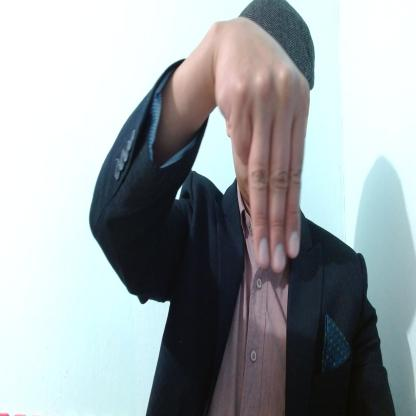M: (216, 16, 308, 270)
